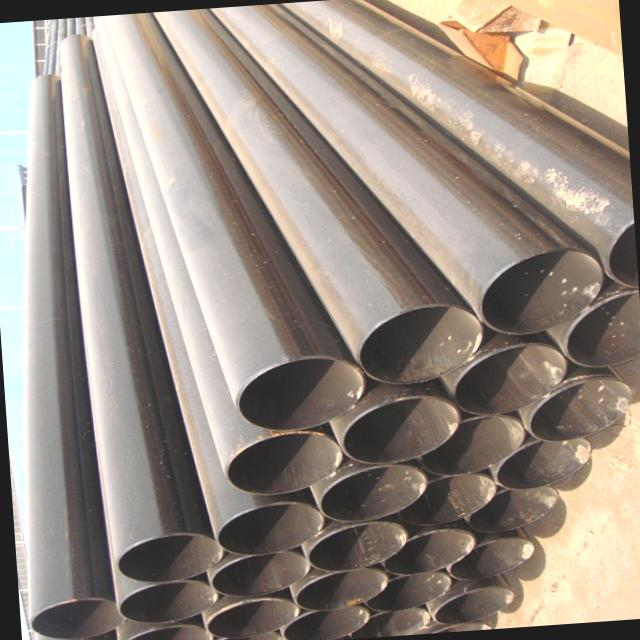gas: (209, 2, 602, 332), (152, 7, 482, 382), (105, 11, 365, 428), (111, 47, 342, 493), (280, 0, 638, 285), (60, 35, 223, 581), (24, 74, 121, 637), (147, 266, 324, 554), (34, 630, 117, 640)
